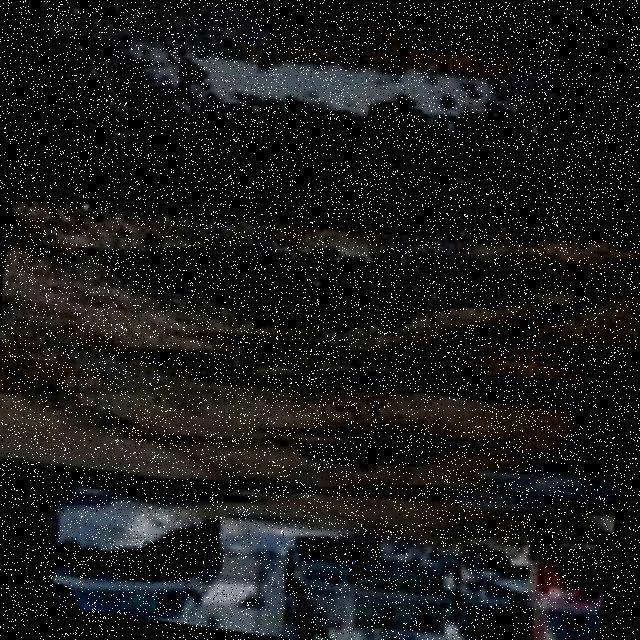Pothole: (16, 35, 640, 238), (105, 243, 607, 327), (324, 366, 633, 410), (301, 439, 421, 466)
